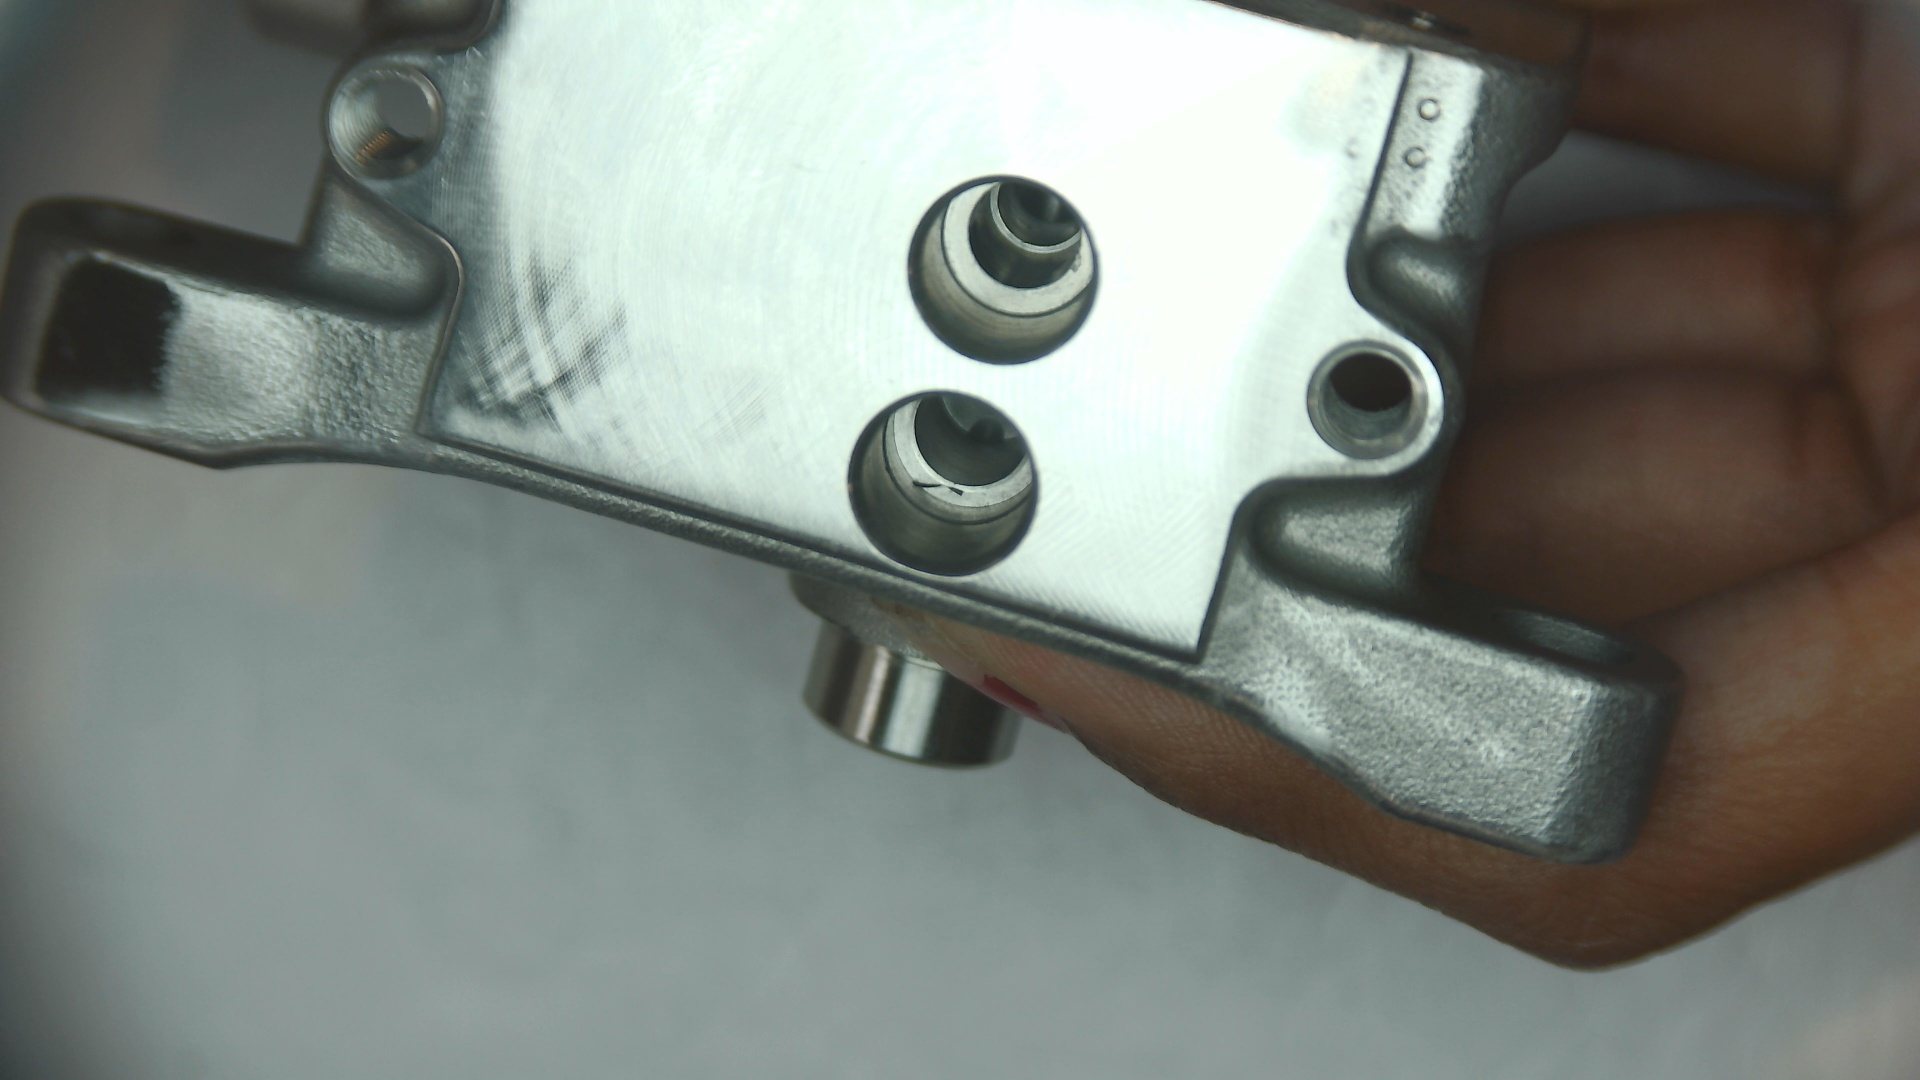burr: (1815, 951, 1920, 997)
